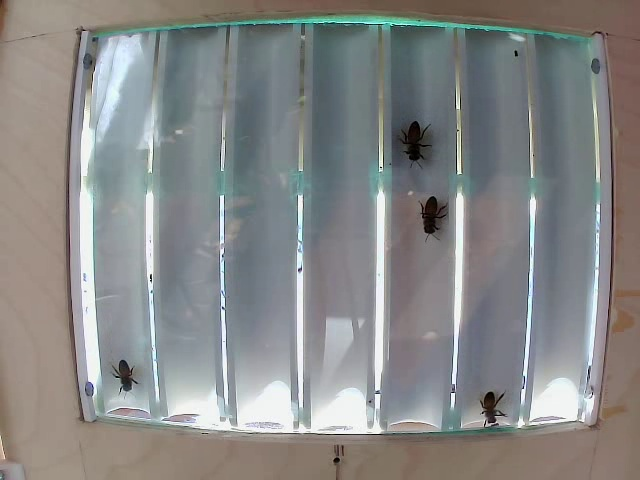bee: (395, 116, 433, 173), (420, 190, 452, 247), (102, 362, 148, 396), (473, 382, 512, 422)
